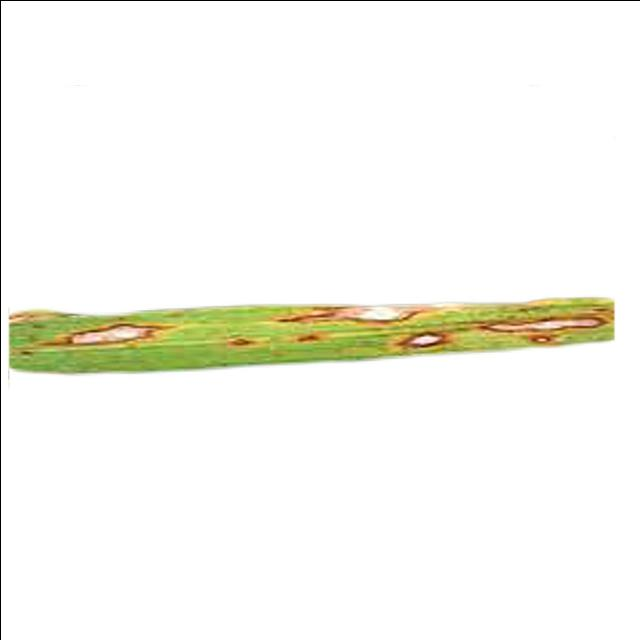Leaf blast: (0, 206, 633, 425)
